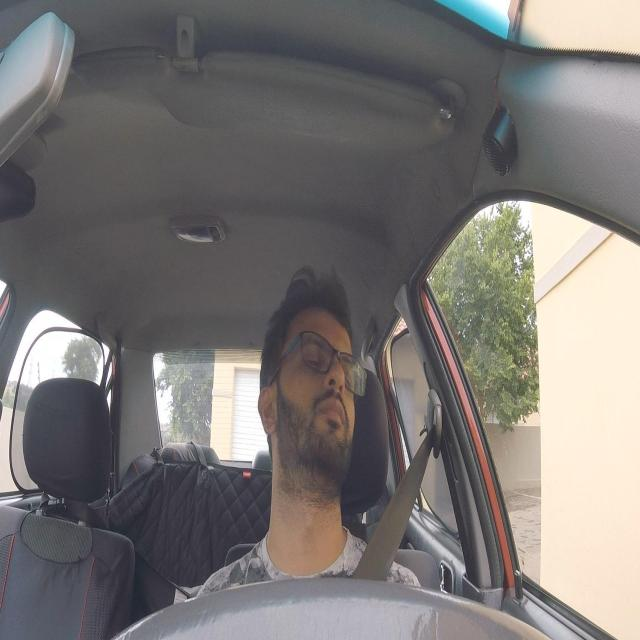close: (302, 329, 332, 378), (335, 350, 359, 398)
